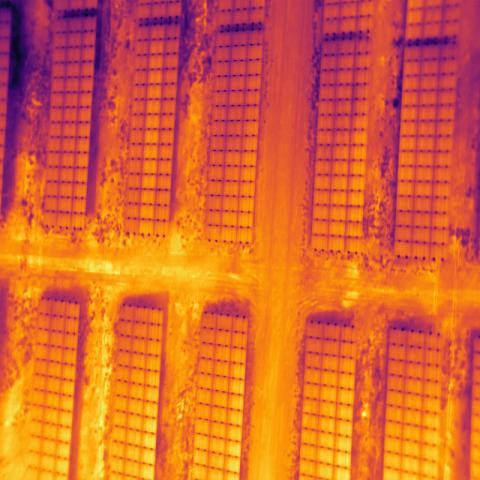fault: (138, 83, 163, 235)
